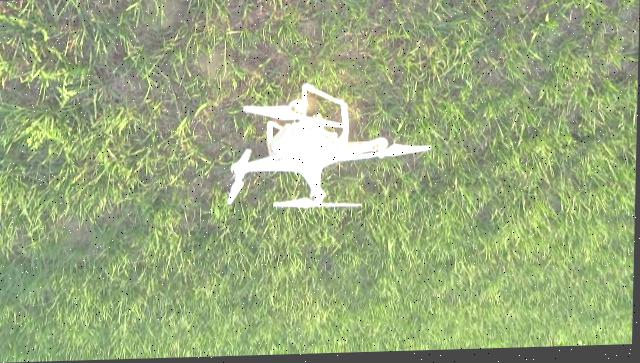drone: (222, 79, 433, 215)
